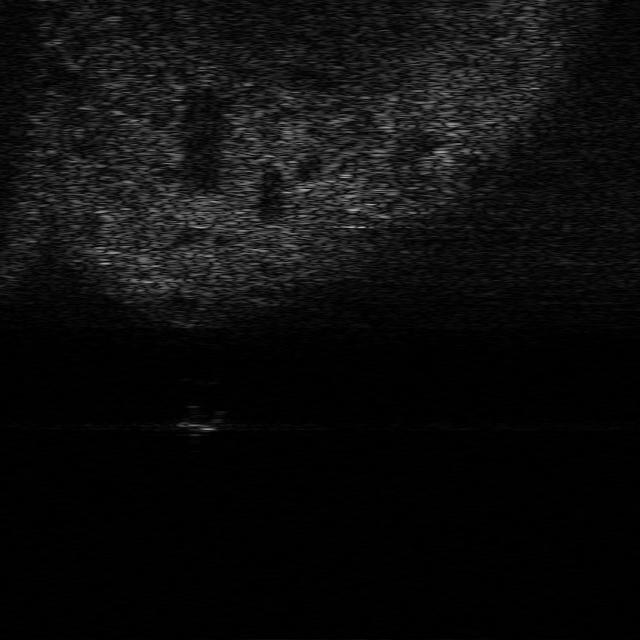cube: (176, 402, 225, 434)
